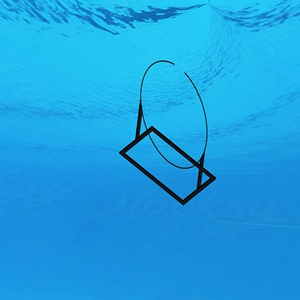circle: (118, 59, 223, 209)
